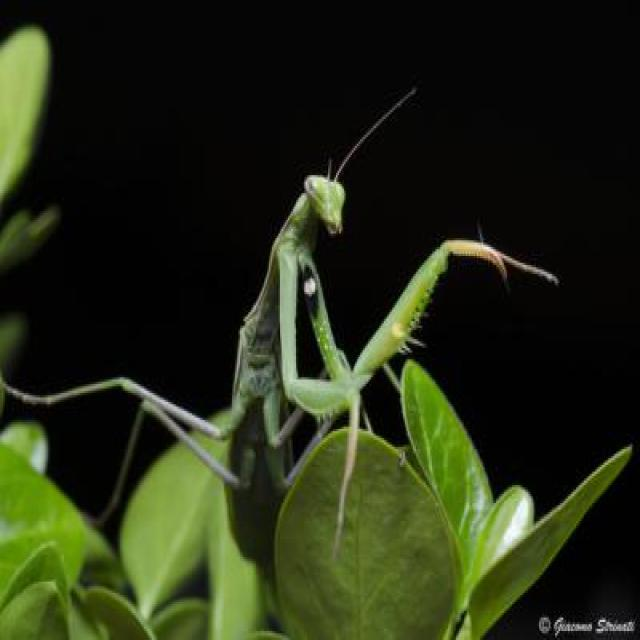antennae: (331, 91, 415, 182)
body: (231, 180, 345, 548)
insect: (0, 91, 556, 548)
legs: (300, 239, 552, 403), (276, 255, 363, 530), (85, 391, 263, 525), (0, 359, 238, 437), (259, 353, 375, 445)
mouthpart: (324, 217, 344, 239)
wings: (232, 390, 292, 570)
